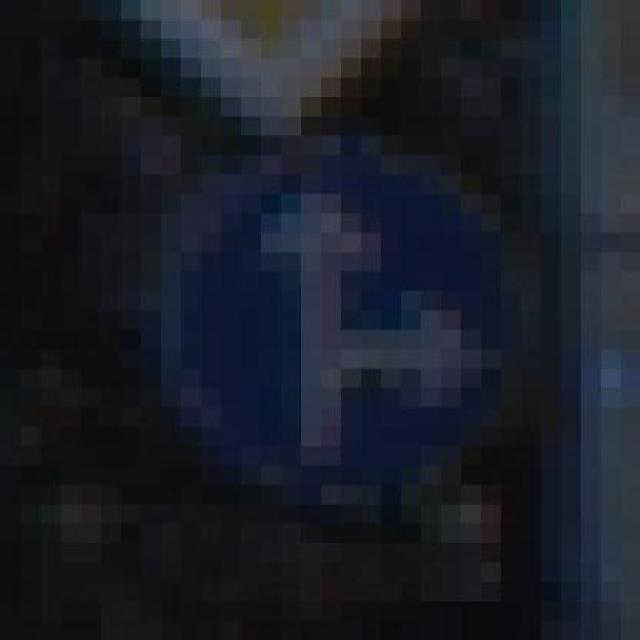Go Straight or Turn Right: (140, 135, 560, 543)
